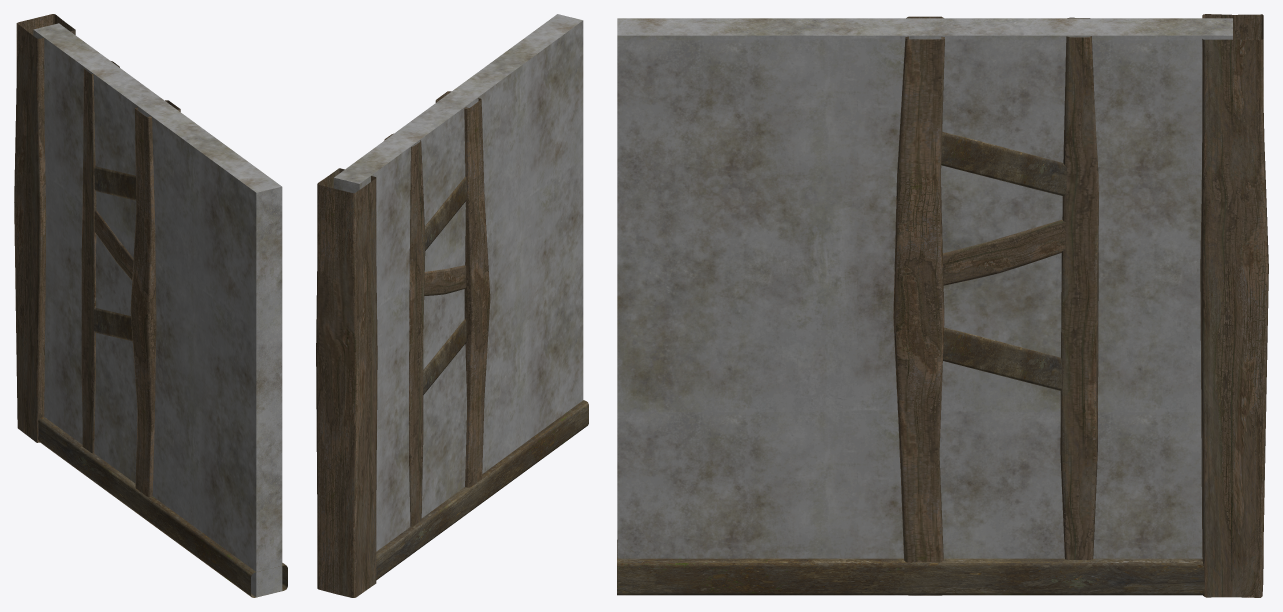
File: SM_Wall42.fbx
The picture shows the model from 3 angles, left to right: view 1: azimuth 30°, elevation 25°; view 2: azimuth 150°, elevation 25°; view 3: azimuth 270°, elevation 25°; orthographic projection. The views are drawn at different scales.
Visible parts, largest first — view 1: SM_Wall42_LOD0; view 2: SM_Wall42_LOD0; view 3: SM_Wall42_LOD0.
Boxes of the visible parts, <box> form: SM_Wall42_LOD0: <box>14,14,287,597</box>; SM_Wall42_LOD0: <box>316,14,588,597</box>; SM_Wall42_LOD0: <box>617,14,1268,597</box>.
Bounding box in the file's own units: 33.49 × 318 × 300.
